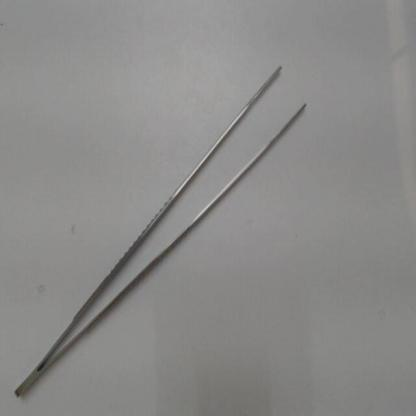DeBakey Dissector: (8, 53, 319, 407)
